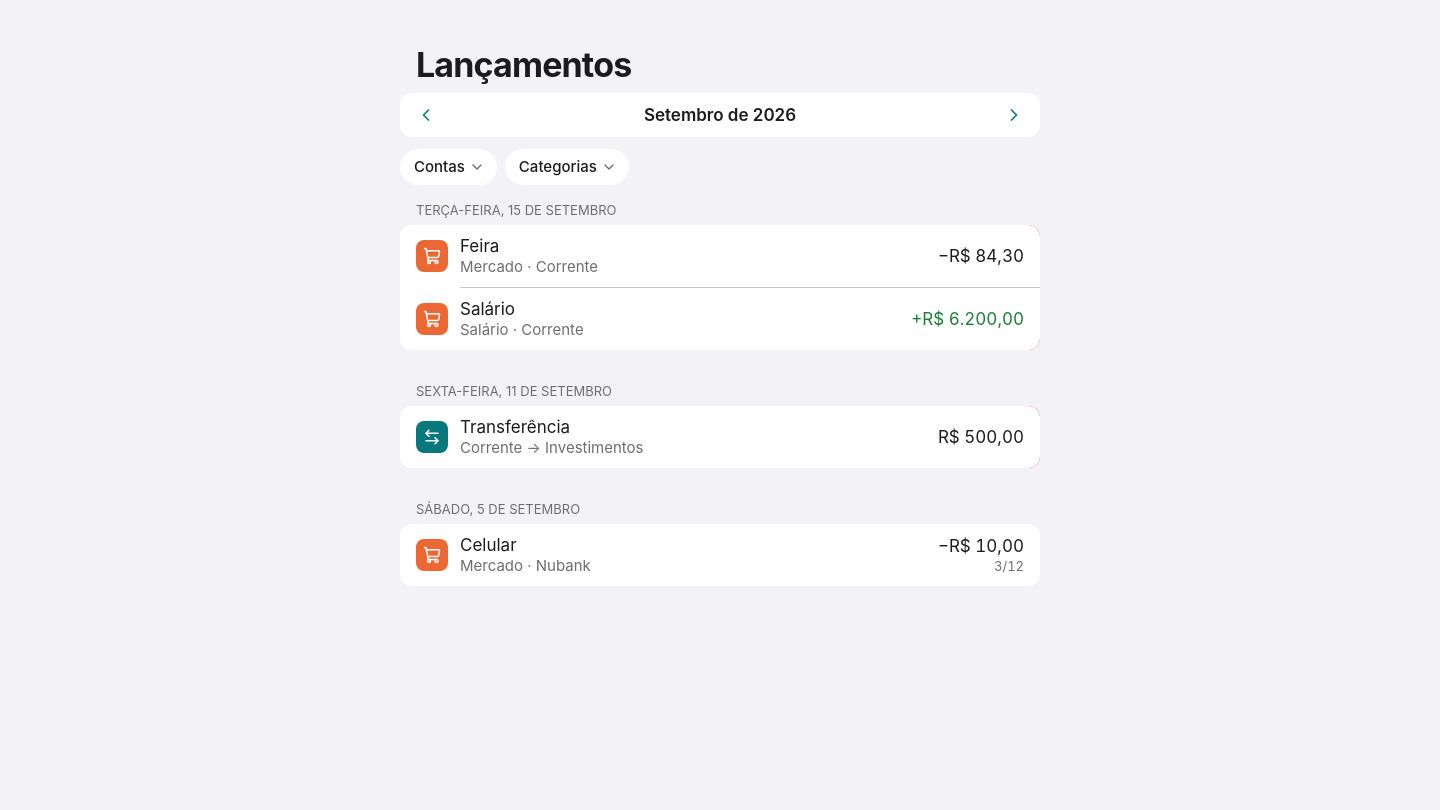
it: TelaLancamentos › tocar numa linha abre a folha de edição preenchida
Step 1. Click the button "Feira Mercado · Corrente −R$ 84,30" → (432, 256), box [400, 225, 1040, 287]
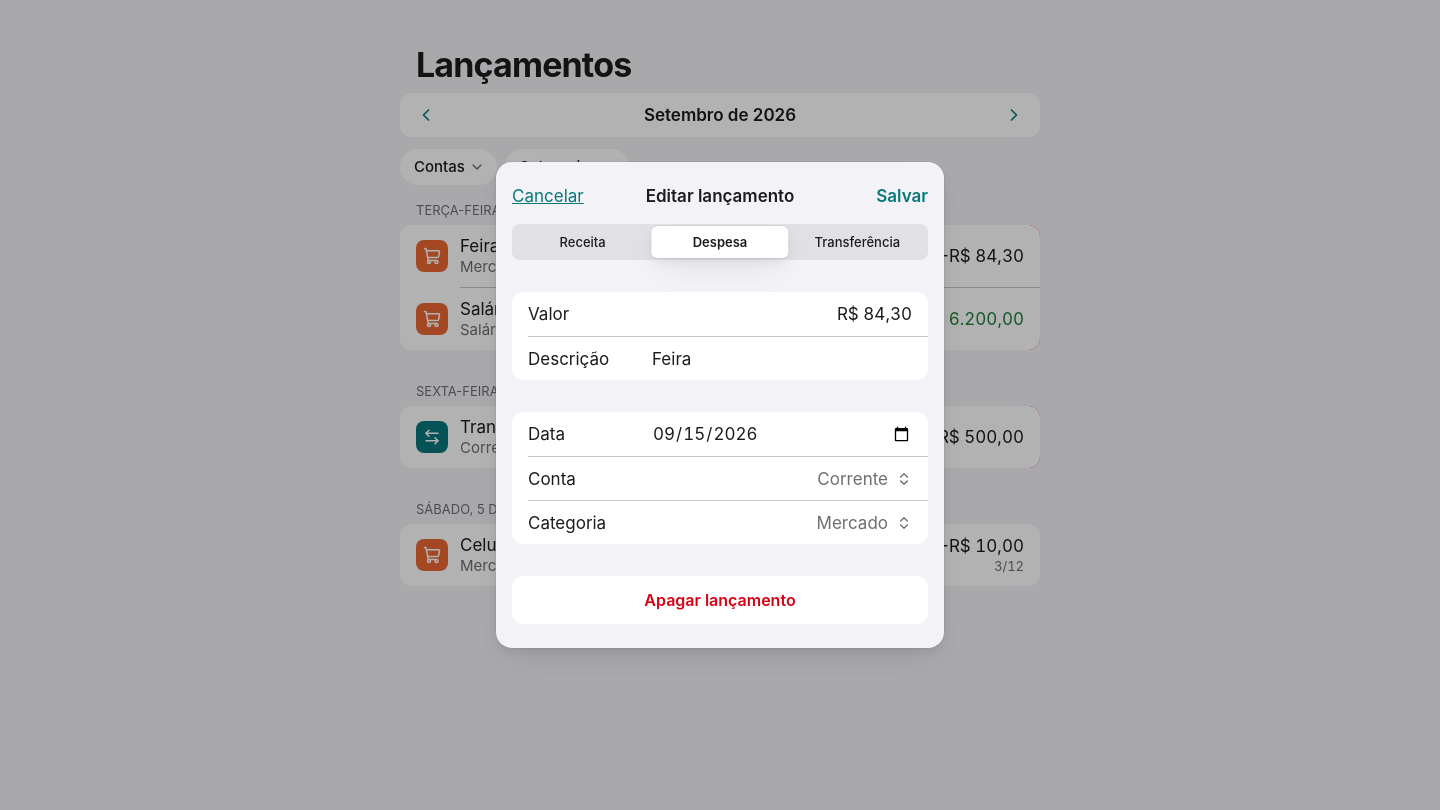
Now the field labelled "Valor" holds "R$ 84,30", box [652, 293, 912, 335]
Now the field labelled "Descrição" holds "Feira", box [652, 338, 912, 380]
Now the radio button labelled "Despesa" is checked, box [693, 234, 747, 250]
